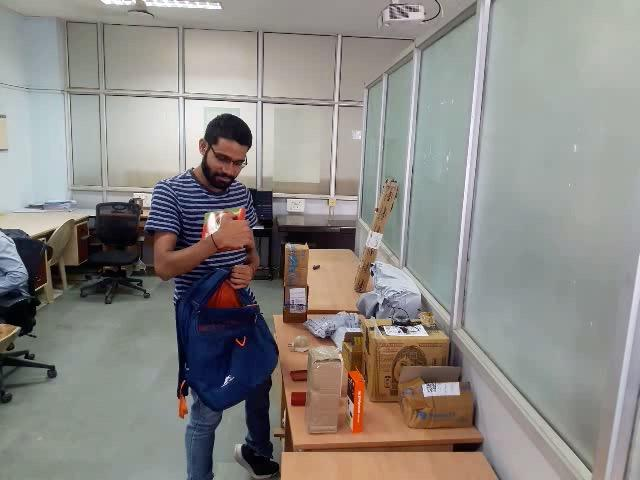shoplifting: (130, 186, 301, 470)
